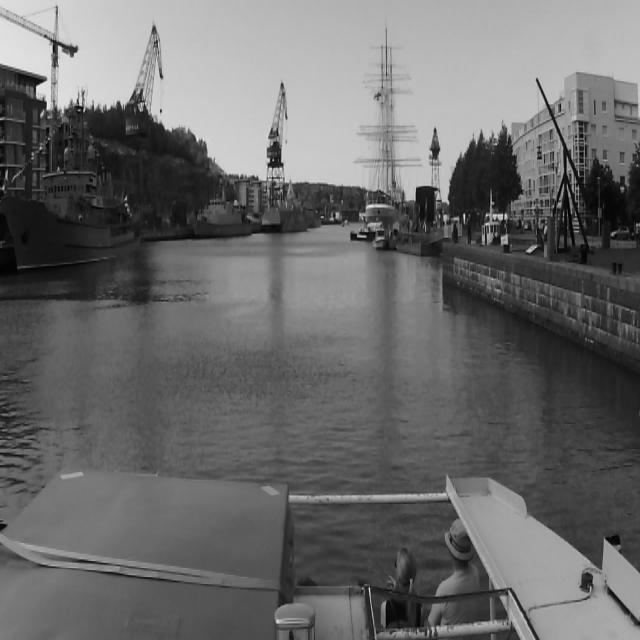ship: (12, 98, 140, 266), (355, 29, 421, 220), (262, 180, 310, 233), (192, 198, 254, 236), (480, 190, 504, 243), (351, 228, 373, 242), (373, 229, 389, 248), (308, 207, 320, 229)
